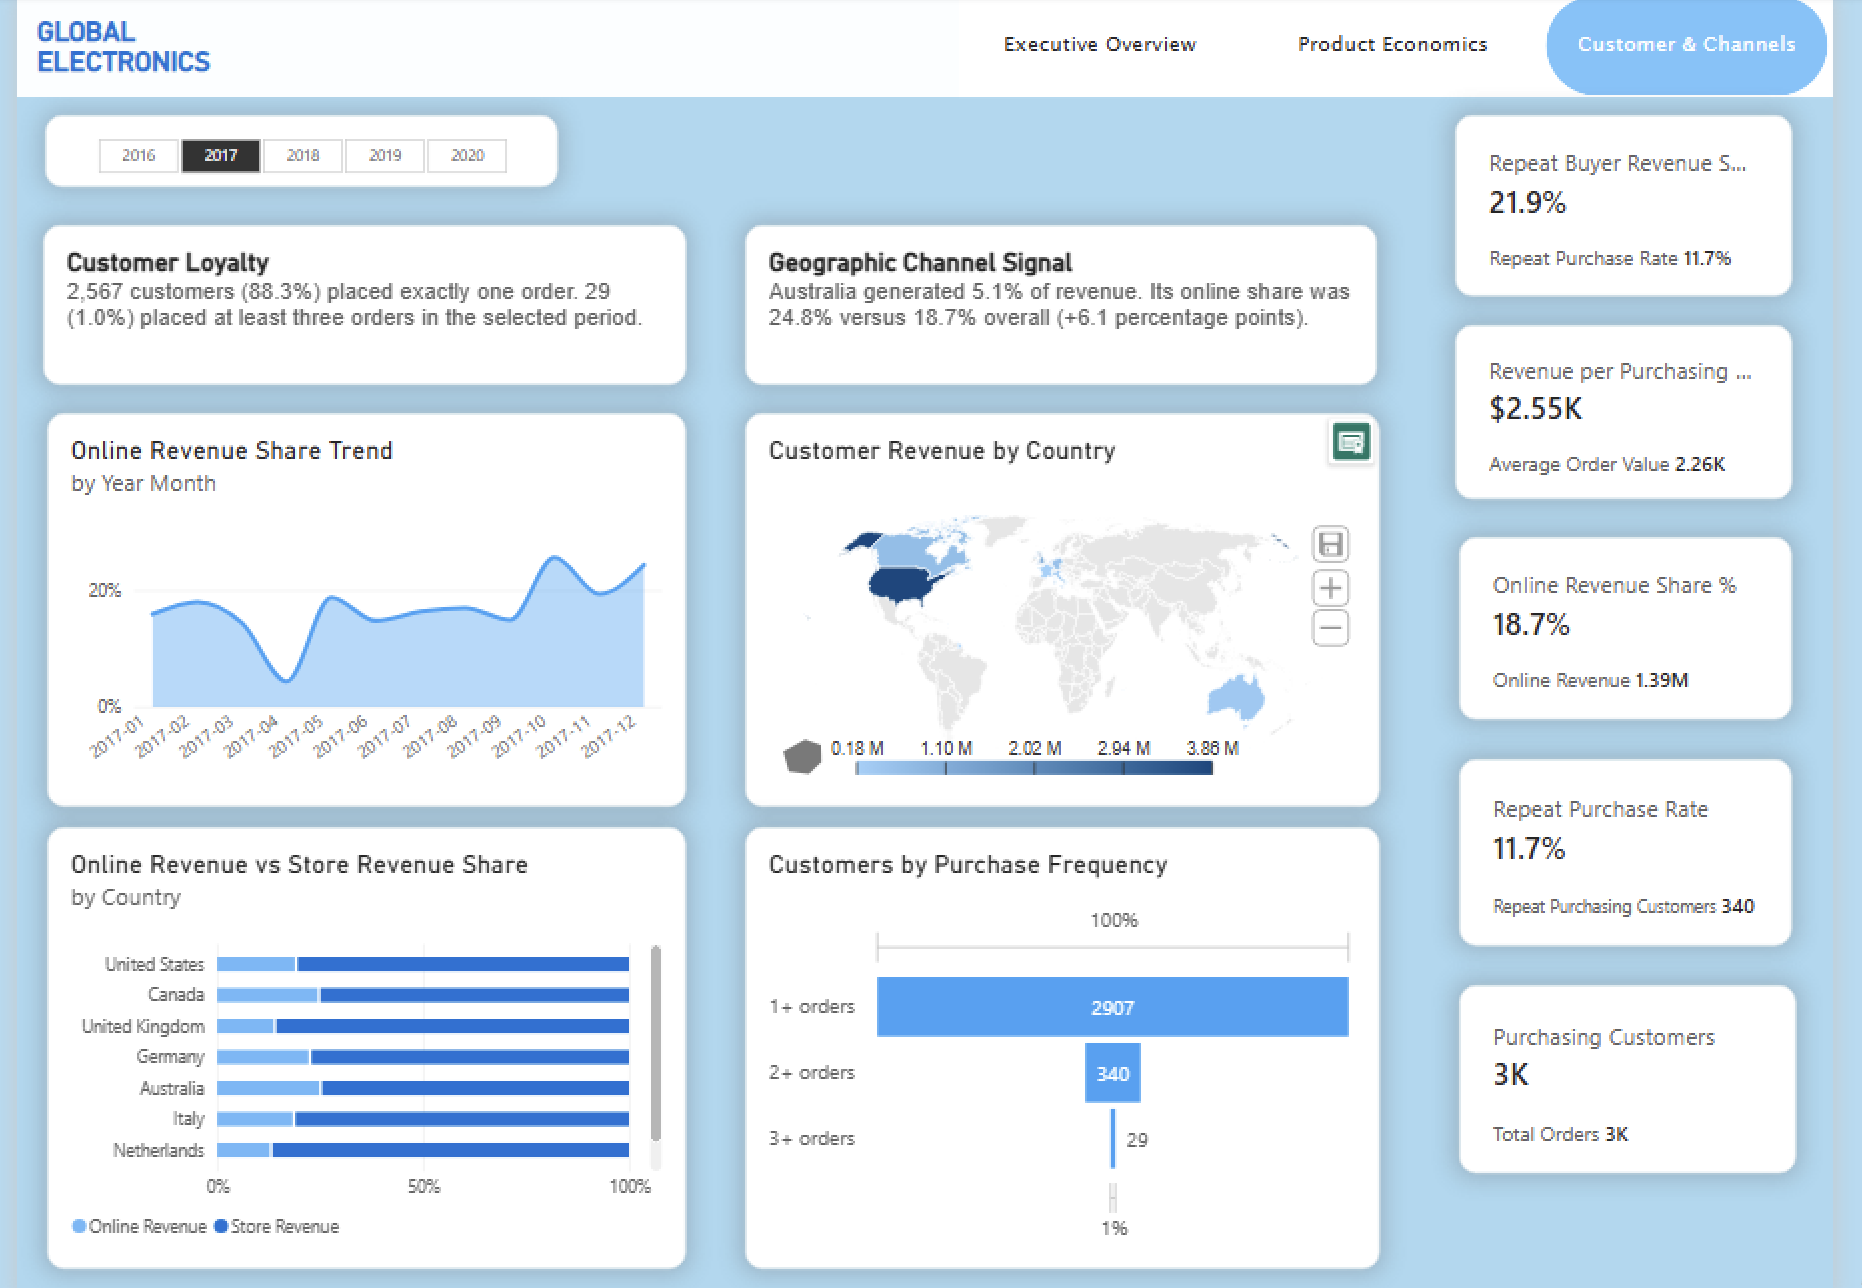

What the dashboard file says about the page in this screenshot:
{"tool":"powerbi","page":{"name":"Customer & Channels","canvas":[1280,920],"ordinal":2},"visuals":[{"type":"slicer","fields":{"Values":["dimDate.Year"]},"box":[19.7,84.5,362,50.7],"z":0},{"type":"cardVisual","fields":{"Data":["factSales.Purchasing Customers"]},"box":[1017.4,698.6,237.7,133.3],"z":1000},{"type":"shape","box":[0,0,1920,72.4],"z":2000},{"type":"pageNavigator","box":[664.8,0,615.5,71.8],"z":3000},{"type":"textbox","box":[14.1,14.1,162,43.7],"z":4000},{"type":"cardVisual","fields":{"Data":["factSales.Repeat Purchase Rate"]},"box":[1017.4,539.1,234.8,131.9],"z":5000},{"type":"cardVisual","fields":{"Data":["factSales.Revenue per Purchasing Customer"]},"box":[1014.5,233.3,237.7,123.2],"z":6000},{"type":"cardVisual","fields":{"Data":["factSales.Online Revenue Share %"]},"box":[1017.4,382.6,234.8,129],"z":7000},{"type":"lineChart","title":"Online Revenue Share Trend","fields":{"Category":["dimDate.Year Month"],"Y":["factSales.Online Revenue Share %"]},"box":[21.7,294.2,450.7,278.3],"z":8000},{"type":"maps","title":"Customer Revenue by Country","fields":{"country":["dimCustomers.Country"],"measure":["factSales.Total Revenue"],"hidden":["factSales.Purchasing Customers","factSales.Revenue per Purchasing Customer","factSales.Repeat Purchase Rate"]},"box":[513,294.2,447.8,278.3],"z":9000},{"type":"hundredPercentStackedBarChart","title":"Online Revenue vs Store Revenue Share","fields":{"Category":["dimCustomers.Country"],"Y":["factSales.Online Revenue","factSales.Store Revenue"]},"box":[21.7,587,450.7,311.6],"z":10000},{"type":"funnel","title":"Customers by Purchase Frequency","fields":{"Category":["Purchase Stages.Stage"],"Y":["Purchase Stages.Customers by Purchase Stage"]},"box":[513,587,447.8,311.6],"z":11000},{"type":"textbox","title":"Customer Loyalty","box":[18.8,162.3,453.6,113],"z":12000},{"type":"textbox","title":"Geographic Channel Signal","box":[513,162.3,446.4,113],"z":13000},{"type":"cardVisual","fields":{"Data":["Purchase Stages.Repeat Buyer Revenue Share %"]},"box":[1014.5,84.1,237.7,127.5],"z":14000}]}

Visuals, with their boxes on the page's 1280x920 design canvas (x1, y1, x2, y2). These are canvas units, not pixel positions in the 1862x1288 screenshot, which may show the page scaled, cropped or inside an application window:
slicer - dimDate.Year: [20,84,382,135]
cardVisual - factSales.Purchasing Customers: [1017,699,1255,832]
shape: [0,0,1920,72]
pageNavigator: [665,0,1280,72]
textbox: [14,14,176,58]
cardVisual - factSales.Repeat Purchase Rate: [1017,539,1252,671]
cardVisual - factSales.Revenue per Purchasing Customer: [1014,233,1252,356]
cardVisual - factSales.Online Revenue Share %: [1017,383,1252,512]
"Online Revenue Share Trend" lineChart: [22,294,472,572]
"Customer Revenue by Country" maps: [513,294,961,572]
"Online Revenue vs Store Revenue Share" hundredPercentStackedBarChart: [22,587,472,899]
"Customers by Purchase Frequency" funnel: [513,587,961,899]
"Customer Loyalty" textbox: [19,162,472,275]
"Geographic Channel Signal" textbox: [513,162,959,275]
cardVisual - Purchase Stages.Repeat Buyer Revenue Share %: [1014,84,1252,212]
